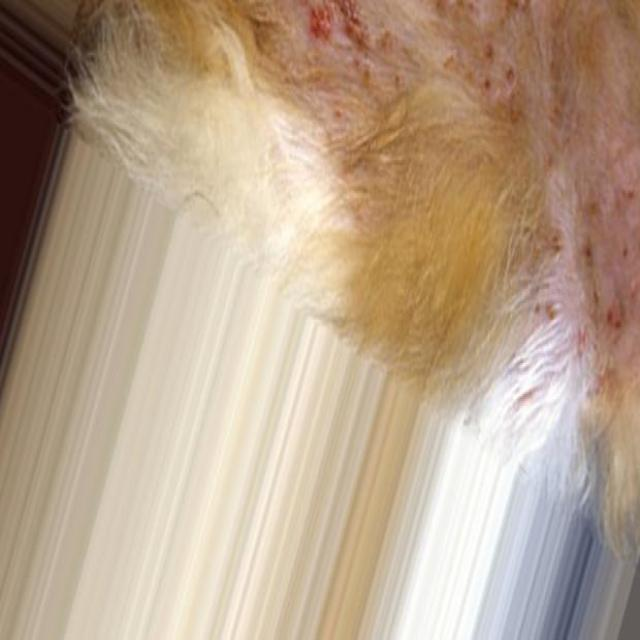di ung bo chet: (251, 0, 640, 372)
